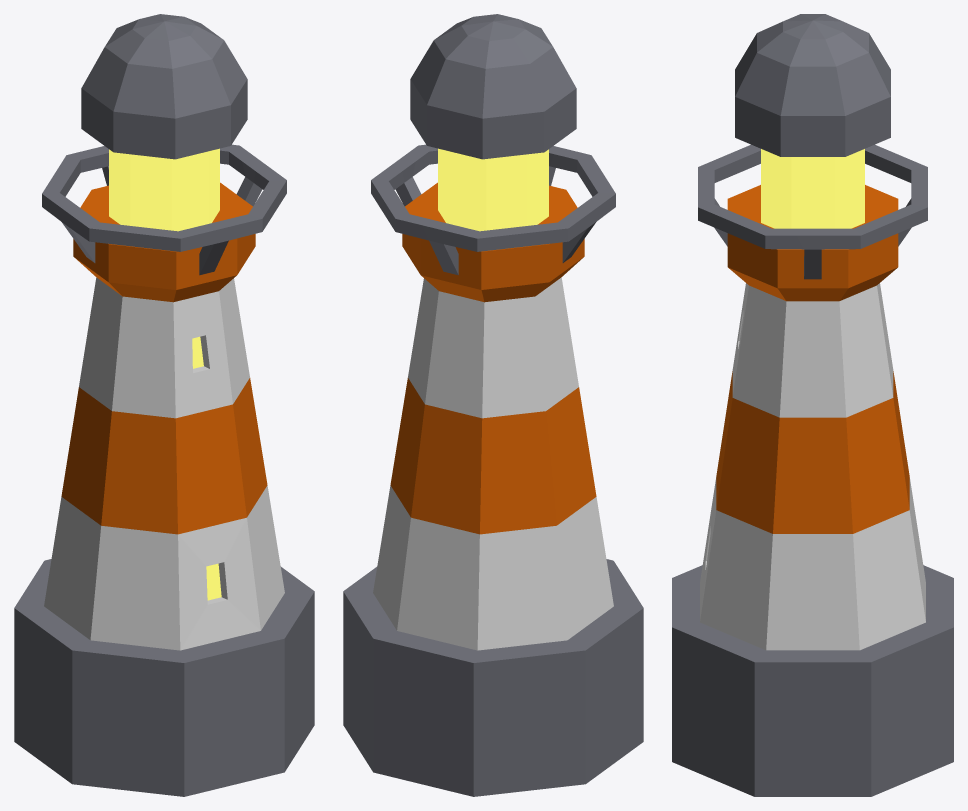
File: whitestriped_lighthouse_fixed.fbx
The picture shows the model from 3 angles, left to right: view 1: azimuth 30°, elevation 25°; view 2: azimuth 150°, elevation 25°; view 3: azimuth 270°, elevation 25°; orthographic projection.
Visible parts, largest first — view 1: Cylindre.003; view 2: Cylindre.003; view 3: Cylindre.003.
Boxes of the visible parts, x1=… form: Cylindre.003: x1=14, y1=14, x2=314, y2=796; Cylindre.003: x1=343, y1=14, x2=643, y2=796; Cylindre.003: x1=672, y1=14, x2=953, y2=796.
Bounding box in the file's own units: 275 × 772 × 275.
